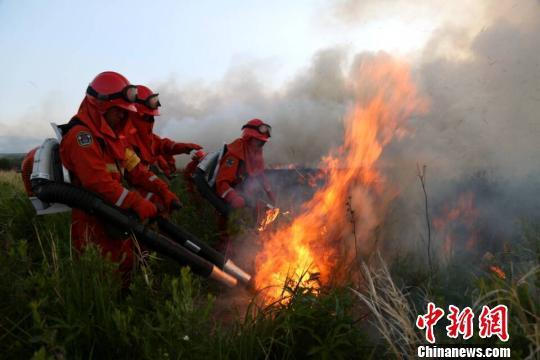fire: (251, 55, 381, 300)
